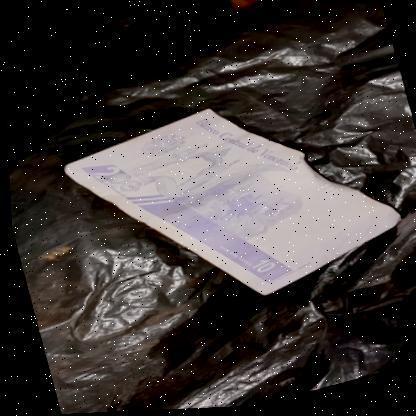vef_back: (54, 68, 412, 338)
